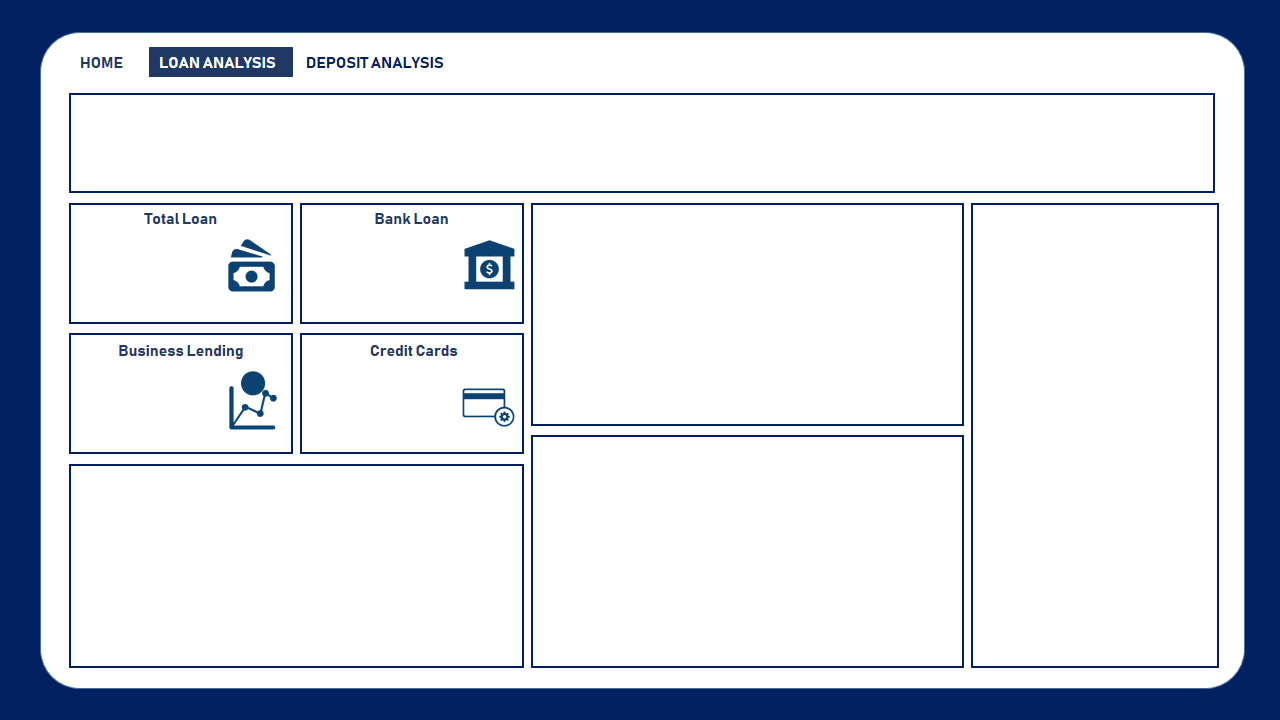

The page's visual inventory and layout, read from the dashboard file:
{"tool":"powerbi","page":{"name":"Loan Analysis","canvas":[1280,720],"ordinal":1},"visuals":[{"type":"slicer","fields":{"Values":["banking_customer.Joined Bank.Variation.Date Hierarchy.Year"]},"box":[78.5,95.5,1132.5,87.6],"z":0},{"type":"cardVisual","fields":{"Data":["Sum(banking_customer.Bank Loans)"]},"box":[315.2,204,179.2,109.8],"z":1000},{"type":"cardVisual","fields":{"Data":["banking_customer.Total Loan"]},"box":[78.5,204,179.2,109.8],"z":2000},{"type":"cardVisual","fields":{"Data":["Sum(banking_customer.Business Lending)"]},"box":[78.5,334.8,179.2,109.8],"z":3000},{"type":"cardVisual","fields":{"Data":["Sum(banking_customer.Credit Card Balance)"]},"box":[315.2,334.8,179.2,109.8],"z":4000},{"type":"donutChart","fields":{"Y":["Sum(banking_customer.Bank Loans)"],"Category":["banking_customer.Loyalty Classification"]},"box":[78.5,465.6,444.6,201.4],"z":5000},{"type":"clusteredColumnChart","title":"Bank Loans by Banking Relationship","fields":{"Category":["banking-realtionships.Banking Relationship"],"Y":["Sum(banking_customer.Bank Loans)"]},"box":[534.9,204,425,217.1],"z":6000},{"type":"clusteredColumnChart","title":"Bank Loans by Nationality","fields":{"Category":["banking_customer.Nationality"],"Y":["Sum(banking_customer.Bank Loans)"]},"box":[534.9,432.9,425,234.1],"z":7000},{"type":"clusteredColumnChart","title":"Bank Loans by Fee","fields":{"Y":["Sum(banking_customer.Bank Loans)"],"Category":["banking_customer.Fee Structure"]},"box":[970.3,204,262.9,457.7],"z":8000},{"type":"actionButton","box":[51,37.9,99.4,40.5],"z":9000},{"type":"actionButton","box":[325.6,39.2,99.4,40.5],"z":10000}]}

Visuals, with their boxes in screenshot pixels (x1, y1, x2, y2), scaled from the page's 1280x720 canvas onto the 1280x720 screenshot:
slicer - banking_customer.Joined Bank.Variation.Date Hierarchy.Year: BBox(78, 96, 1211, 183)
cardVisual - Sum(banking_customer.Bank Loans): BBox(315, 204, 494, 314)
cardVisual - banking_customer.Total Loan: BBox(78, 204, 258, 314)
cardVisual - Sum(banking_customer.Business Lending): BBox(78, 335, 258, 445)
cardVisual - Sum(banking_customer.Credit Card Balance): BBox(315, 335, 494, 445)
donutChart - Sum(banking_customer.Bank Loans) x banking_customer.Loyalty Classification: BBox(78, 466, 523, 667)
"Bank Loans by Banking Relationship" clusteredColumnChart: BBox(535, 204, 960, 421)
"Bank Loans by Nationality" clusteredColumnChart: BBox(535, 433, 960, 667)
"Bank Loans by Fee" clusteredColumnChart: BBox(970, 204, 1233, 662)
actionButton: BBox(51, 38, 150, 78)
actionButton: BBox(326, 39, 425, 80)
